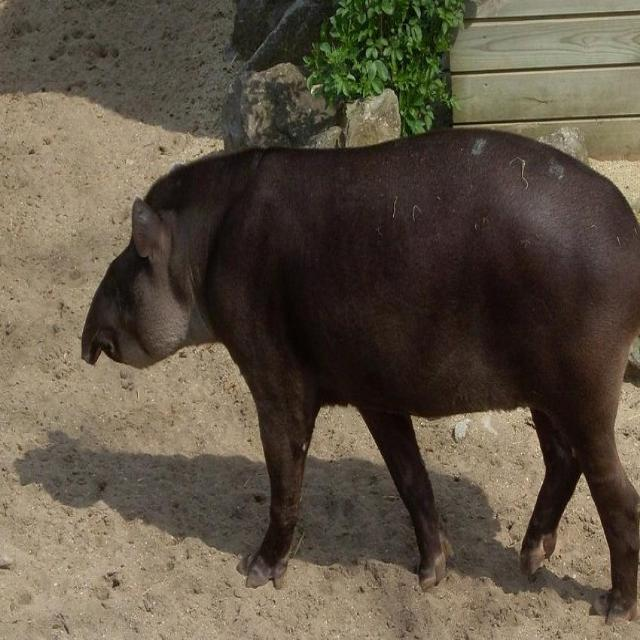pig: (81, 131, 640, 621)
